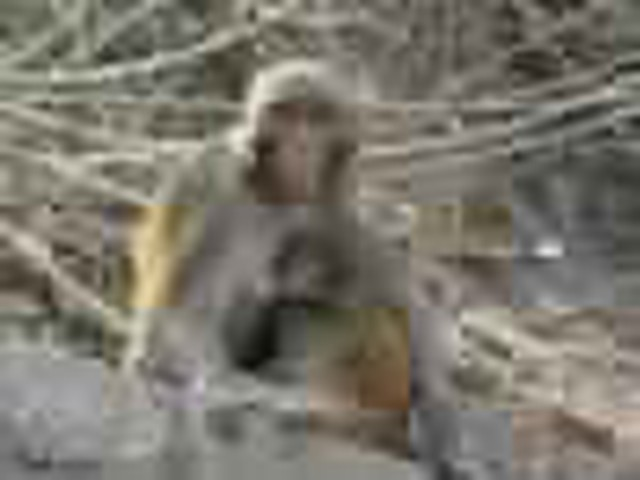Monkey: (144, 57, 450, 415)
